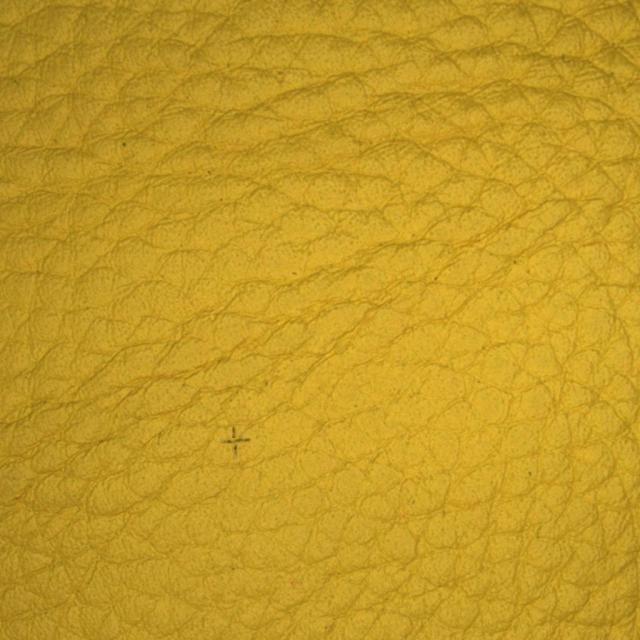Scratch: (173, 333, 294, 544)
